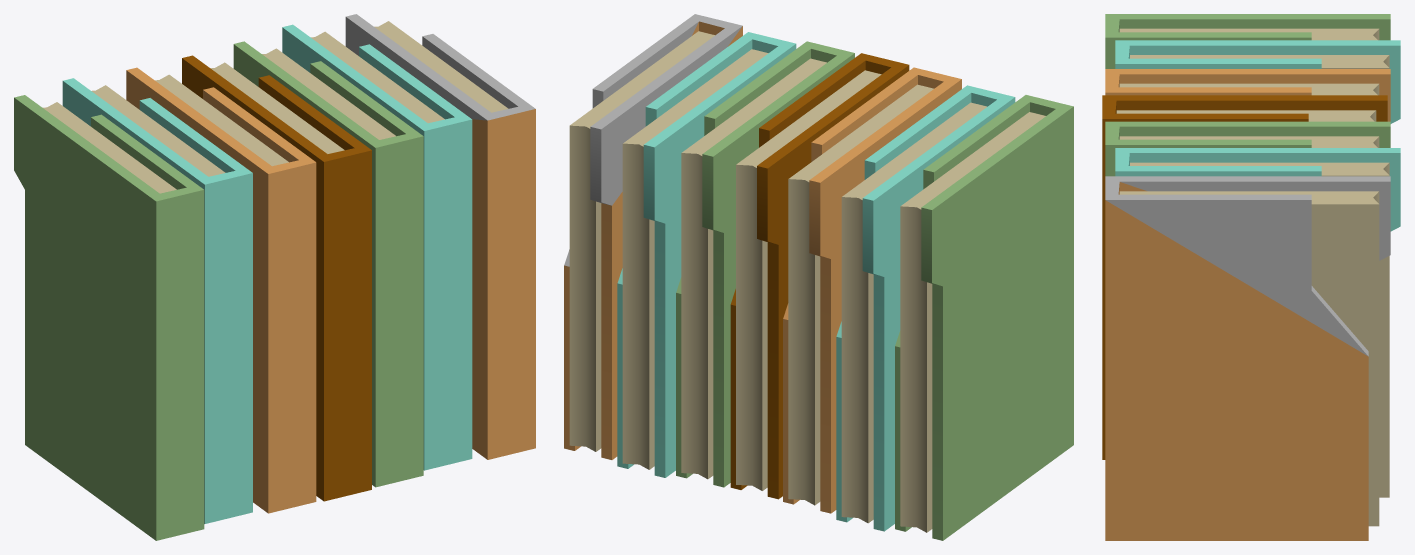
File: SM_Folders_A_GRP_01.fbx
The picture shows the model from 3 angles, left to right: view 1: azimuth 30°, elevation 25°; view 2: azimuth 150°, elevation 25°; view 3: azimuth 270°, elevation 25°; orthographic projection.
Visible parts, largest first — view 1: SM_Folders_A_GRP_01; view 2: SM_Folders_A_GRP_01; view 3: SM_Folders_A_GRP_01.
Part boxes in pixels (<box>): SM_Folders_A_GRP_01: <box>14,14,535,540</box>; SM_Folders_A_GRP_01: <box>564,14,1073,540</box>; SM_Folders_A_GRP_01: <box>1102,14,1400,540</box>.
Size of the model in its own units: 35.11 by 30 by 23.8.
